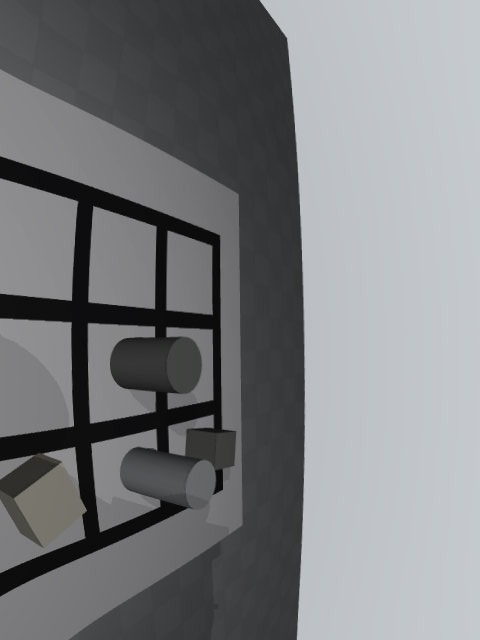can: (120, 447, 216, 510)
cube: (185, 428, 236, 470)
cylinder: (110, 336, 202, 394)
foam: (0, 453, 87, 548)
